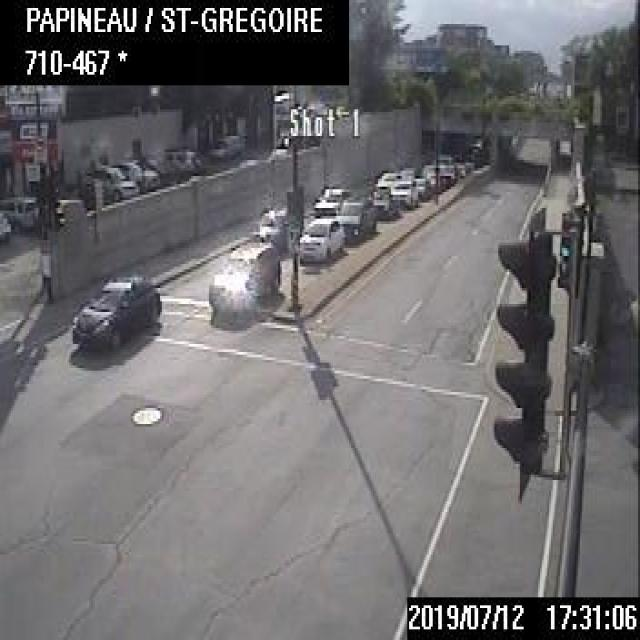vehicle: (65, 269, 162, 352), (204, 241, 281, 312), (334, 196, 380, 244), (82, 161, 138, 200), (256, 204, 296, 256), (300, 219, 341, 261), (0, 196, 42, 231), (205, 127, 247, 160), (122, 156, 159, 192), (312, 182, 348, 215), (159, 147, 201, 175), (390, 177, 419, 210), (370, 185, 397, 218), (373, 168, 403, 194), (419, 162, 444, 191), (411, 175, 430, 198), (398, 164, 416, 183)
